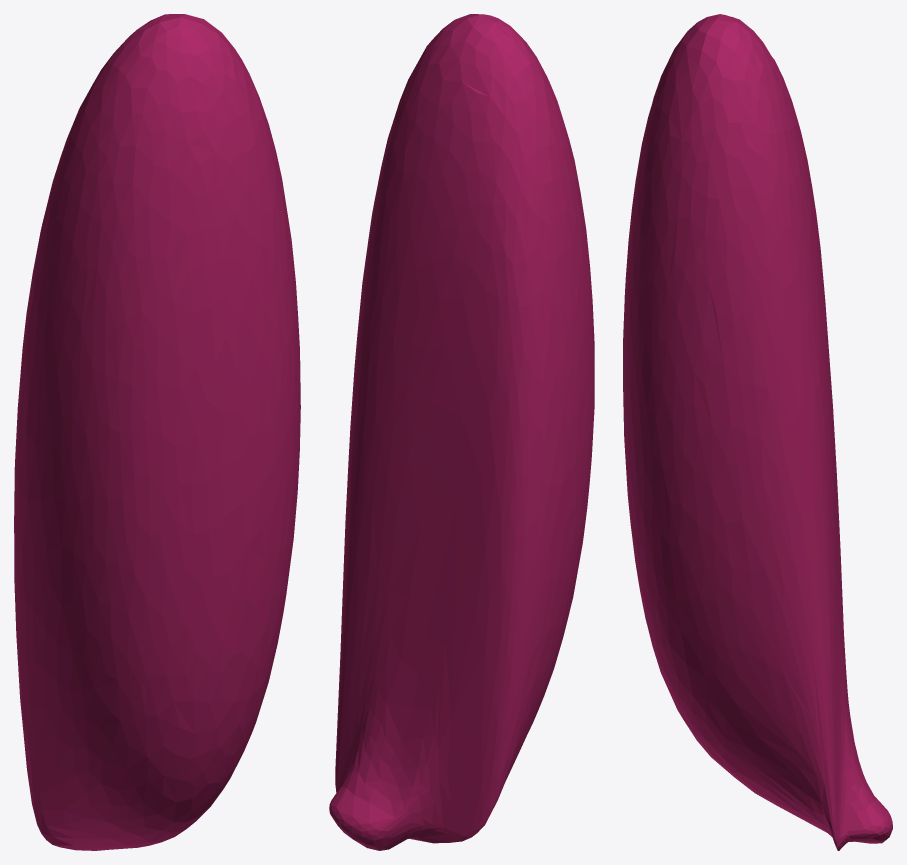
3 renders of one model, left to right at view 1: azimuth 30°, elevation 25°; view 2: azimuth 150°, elevation 25°; view 3: azimuth 270°, elevation 25°, orthographic. The views are drawn at different scales.
Parts seen in each view (by area): view 1: 571_Cube.2301; view 2: 571_Cube.2301; view 3: 571_Cube.2301.
Boxes of the visible parts, x1,y1,x2,y2 form: 571_Cube.2301: [14, 14, 300, 850]; 571_Cube.2301: [329, 14, 594, 850]; 571_Cube.2301: [623, 14, 892, 850].
Bounding box in the file's own units: 3.13 × 11.12 × 3.36.
